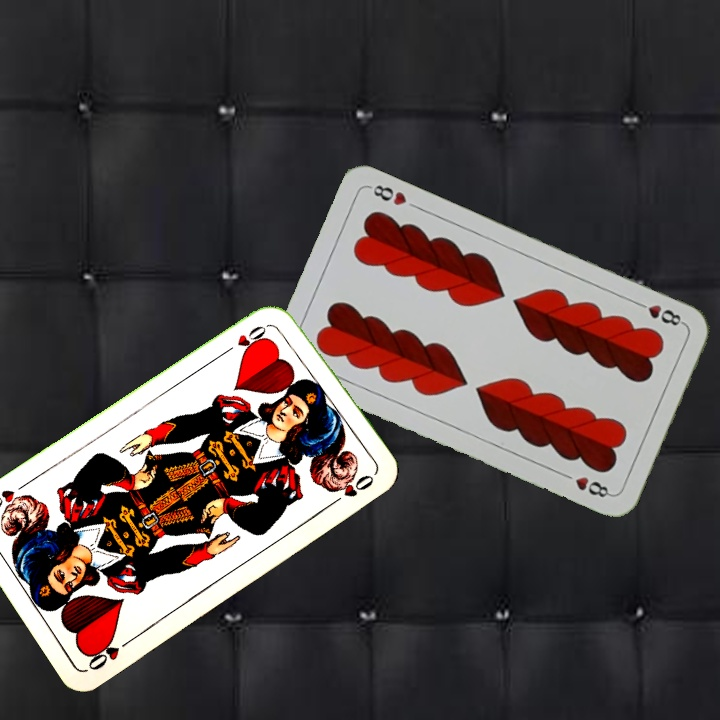H8: (631, 297, 687, 329)
HO: (222, 319, 276, 358), (83, 634, 136, 673)
